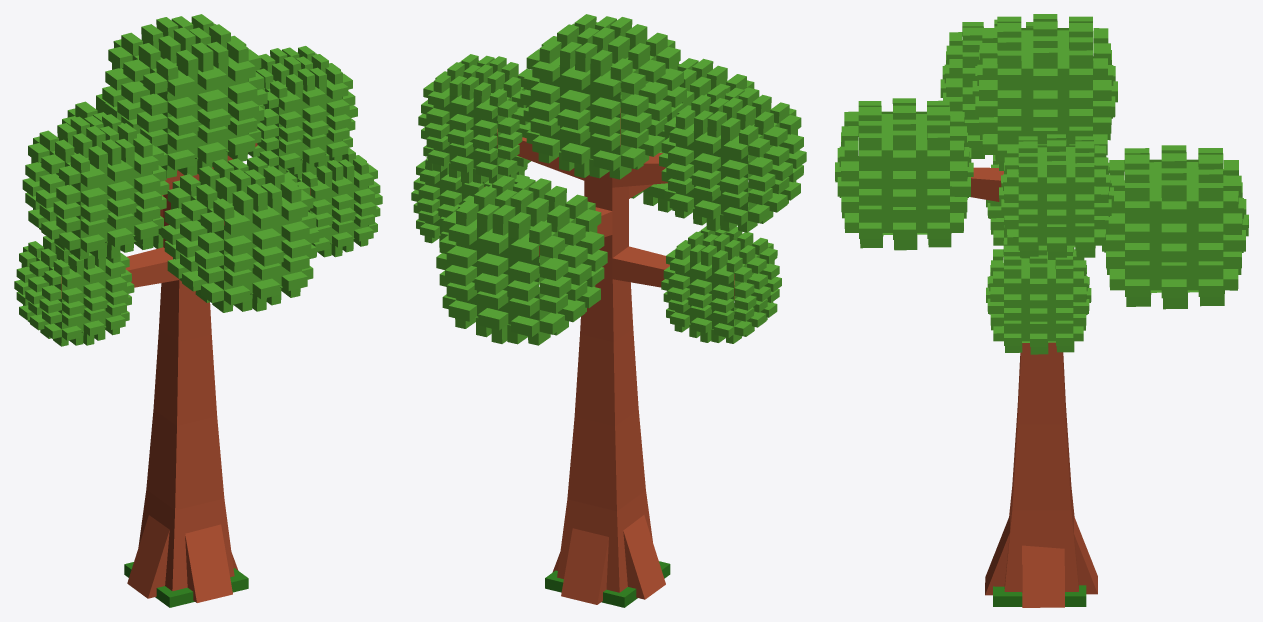
The model's file is ARVORE2.fbx.
3 views of the same model, side by side, from view 1: azimuth 30°, elevation 25°; view 2: azimuth 150°, elevation 25°; view 3: azimuth 270°, elevation 25° (orthographic). The views are drawn at different scales.
Visible parts, largest first — view 1: Cubo.008; view 2: Cubo.008; view 3: Cubo.008.
Boxes of the visible parts, x1,y1,x2,y2 form: Cubo.008: [14, 14, 382, 607]; Cubo.008: [411, 14, 806, 607]; Cubo.008: [835, 14, 1248, 607].
Bounding box in the file's own units: 733 × 1119 × 748.
